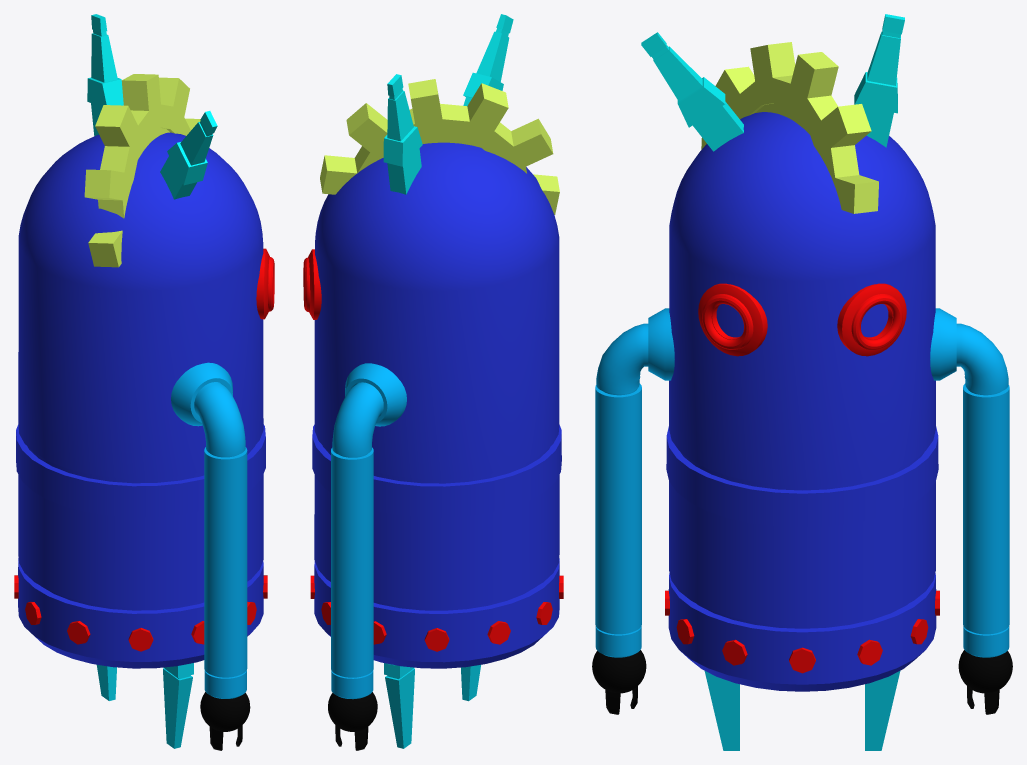
File: petit robot.glb
The picture shows the model from 3 angles, left to right: view 1: azimuth 30°, elevation 25°; view 2: azimuth 150°, elevation 25°; view 3: azimuth 270°, elevation 25°; orthographic projection. The views are drawn at different scales.
Parts seen in each view (by area): view 1: Sphere, Cylinder, Cylinder.002, Cube, Cylinder.001, Cube.001, Sphere.001, Cylinder.003, Cylinder.008; view 2: Sphere, Cylinder, Cylinder.002, Cube.001, Cylinder.001, Sphere.001, Cube, Cylinder.003, Cylinder.012; view 3: Sphere, Cylinder, Cylinder.002, Cylinder.003, Cube, Sphere.001, Cylinder.001, Cube.001.
Boxes of the visible parts, x1,y1,x2,y2 form: Sphere: [16, 132, 265, 668]; Cylinder: [171, 362, 247, 698]; Cylinder.002: [84, 74, 200, 267]; Cube: [160, 111, 217, 199]; Cylinder.001: [96, 663, 193, 748]; Cube.001: [87, 14, 123, 136]; Sphere.001: [200, 692, 250, 750]; Cylinder.003: [256, 248, 274, 319]; Cylinder.008: [128, 628, 153, 651]; Sphere: [312, 142, 561, 668]; Cylinder: [331, 363, 406, 699]; Cylinder.002: [320, 79, 559, 214]; Cube.001: [383, 74, 422, 194]; Cylinder.001: [384, 663, 480, 748]; Sphere.001: [328, 692, 377, 750]; Cube: [463, 14, 513, 105]; Cylinder.003: [303, 249, 321, 319]; Cylinder.012: [424, 628, 449, 651]; Sphere: [666, 112, 938, 691]; Cylinder: [595, 308, 1009, 657]; Cylinder.002: [701, 42, 878, 213]; Cylinder.003: [698, 283, 906, 356]; Cube: [641, 32, 743, 151]; Sphere.001: [592, 650, 1012, 714]; Cylinder.001: [704, 671, 900, 750]; Cube.001: [854, 14, 904, 147].
Bounding box in the file's own units: 2.06 × 6.05 × 3.15.
